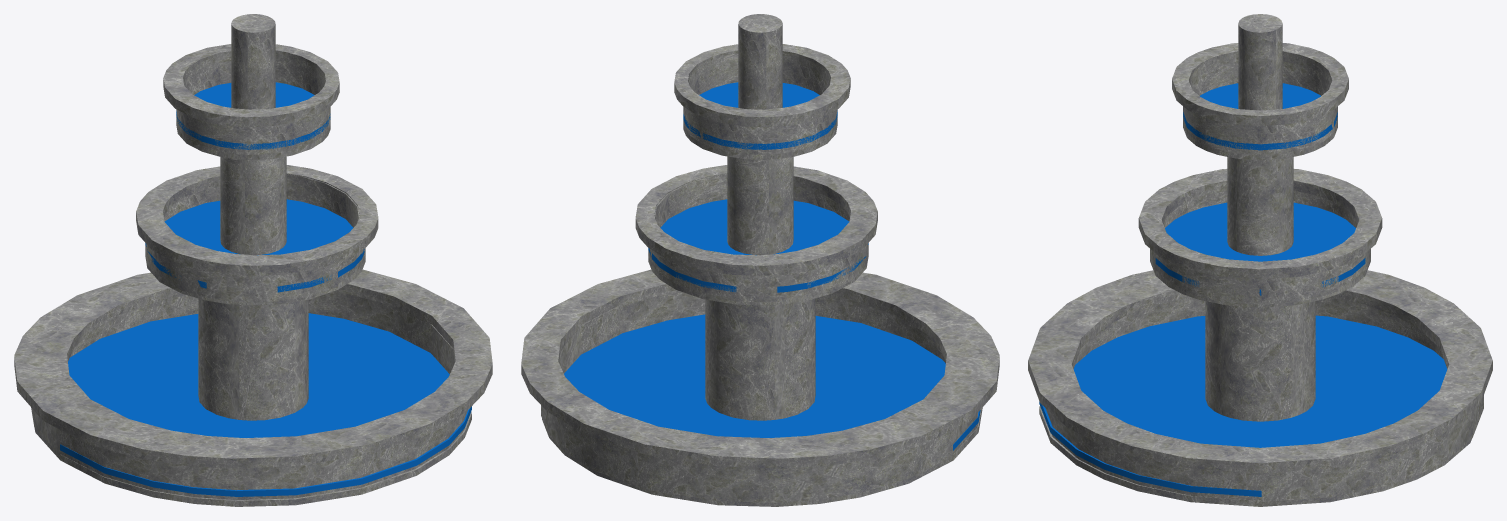
File: Fonte.obj
3 renders of one model, left to right at view 1: azimuth 30°, elevation 25°; view 2: azimuth 150°, elevation 25°; view 3: azimuth 270°, elevation 25°, orthographic.
Visible parts, largest first — view 1: Union4, Part1, Union1, Part4, Union2, Union3, Union5, Part6, Union6, Part3, Part9, Part2 (+3 smaller); view 2: Union4, Part1, Union1, Part4, Union2, Union3, Union5, Part6, Union6, Part3, Part9, Part7 (+3 smaller); view 3: Part1, Union4, Union1, Part4, Union2, Union3, Part6, Union5, Part3, Union6, Part9, Part2 (+3 smaller).
Part boxes in pixels (left/top/right/bottom): Union4: left=14, top=269, right=492, bottom=468; Part1: left=60, top=313, right=471, bottom=496; Union1: left=31, top=292, right=469, bottom=500; Part4: left=198, top=298, right=308, bottom=420; Union2: left=136, top=165, right=378, bottom=275; Union3: left=145, top=174, right=365, bottom=302; Union5: left=176, top=55, right=330, bottom=154; Part6: left=220, top=156, right=286, bottom=255; Union6: left=163, top=44, right=339, bottom=127; Part3: left=145, top=199, right=364, bottom=292; Part9: left=231, top=14, right=275, bottom=109; Part2: left=34, top=411, right=471, bottom=506; Union4: left=521, top=269, right=999, bottom=468; Part1: left=564, top=314, right=980, bottom=450; Union1: left=541, top=292, right=978, bottom=502; Part4: left=705, top=298, right=815, bottom=420; Union2: left=635, top=165, right=877, bottom=275; Union3: left=648, top=174, right=868, bottom=302; Union5: left=683, top=53, right=837, bottom=154; Part6: left=727, top=156, right=793, bottom=255; Union6: left=674, top=44, right=850, bottom=127; Part3: left=648, top=199, right=868, bottom=292; Part9: left=738, top=14, right=782, bottom=109; Part7: left=683, top=82, right=837, bottom=149; Part1: left=1039, top=315, right=1447, bottom=496; Union4: left=1028, top=270, right=1492, bottom=473; Union1: left=1045, top=297, right=1483, bottom=501; Part4: left=1205, top=301, right=1315, bottom=421; Union2: left=1138, top=169, right=1382, bottom=279; Union3: left=1150, top=190, right=1370, bottom=304; Part6: left=1227, top=157, right=1293, bottom=255; Union5: left=1183, top=58, right=1337, bottom=155; Part3: left=1155, top=202, right=1365, bottom=295; Union6: left=1172, top=43, right=1348, bottom=126; Part9: left=1238, top=14, right=1282, bottom=110; Part2: left=1039, top=406, right=1471, bottom=506.
Size of the model in its own units: 22 by 19.5 by 21.
2 materials, 1 textured.
